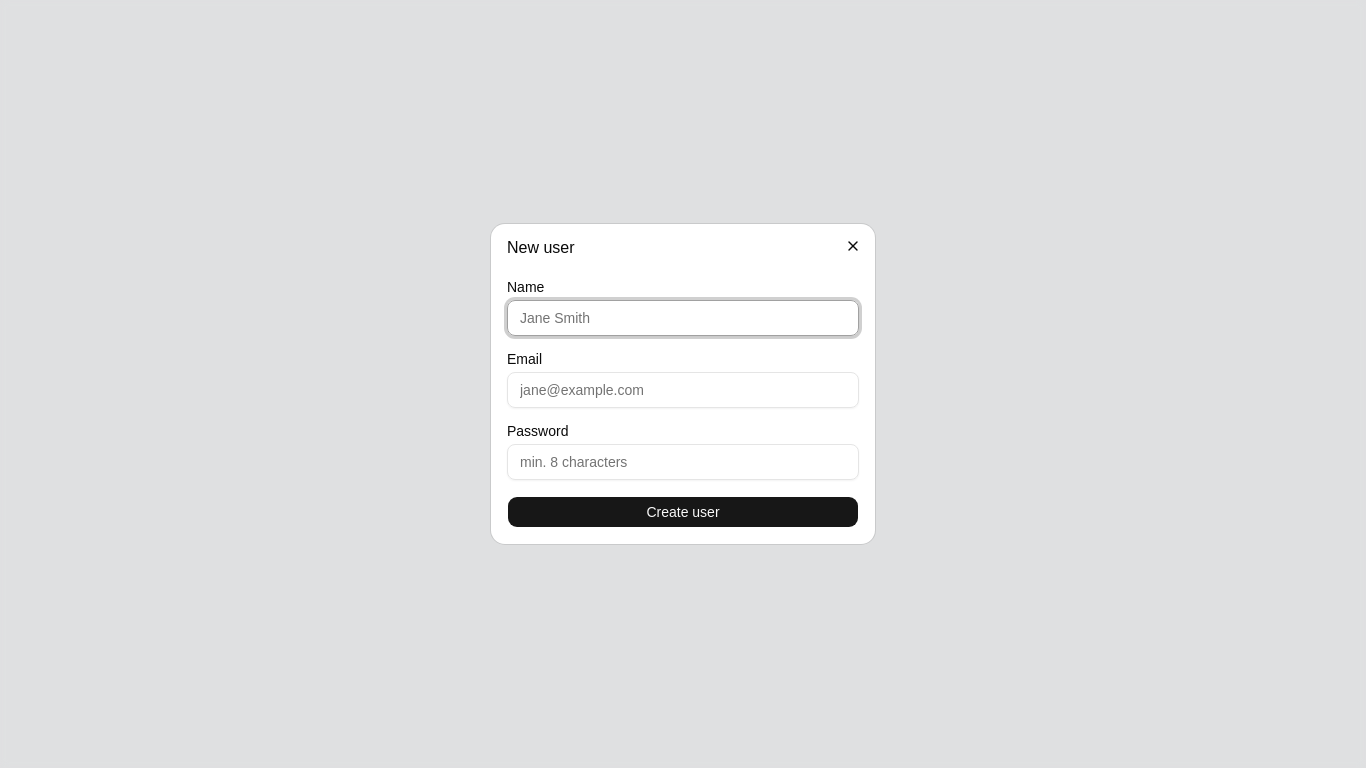
Test case: UserDialog — create mode › validation › shows an error when the email is invalid
Type "not-an-email" into the field labelled "Email" at (683, 390), box left=507, top=372, right=859, bottom=408
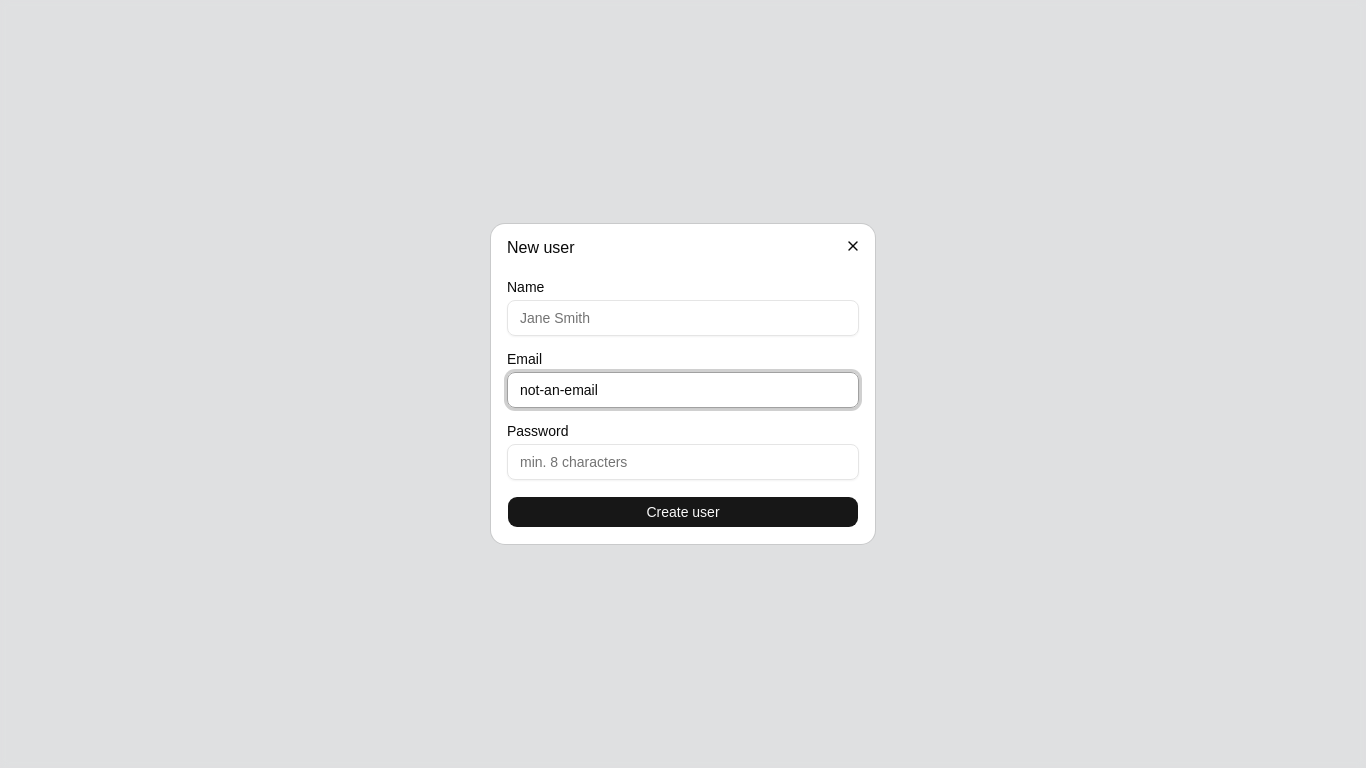
Click the button "Create user" at (683, 512), box left=507, top=496, right=859, bottom=528
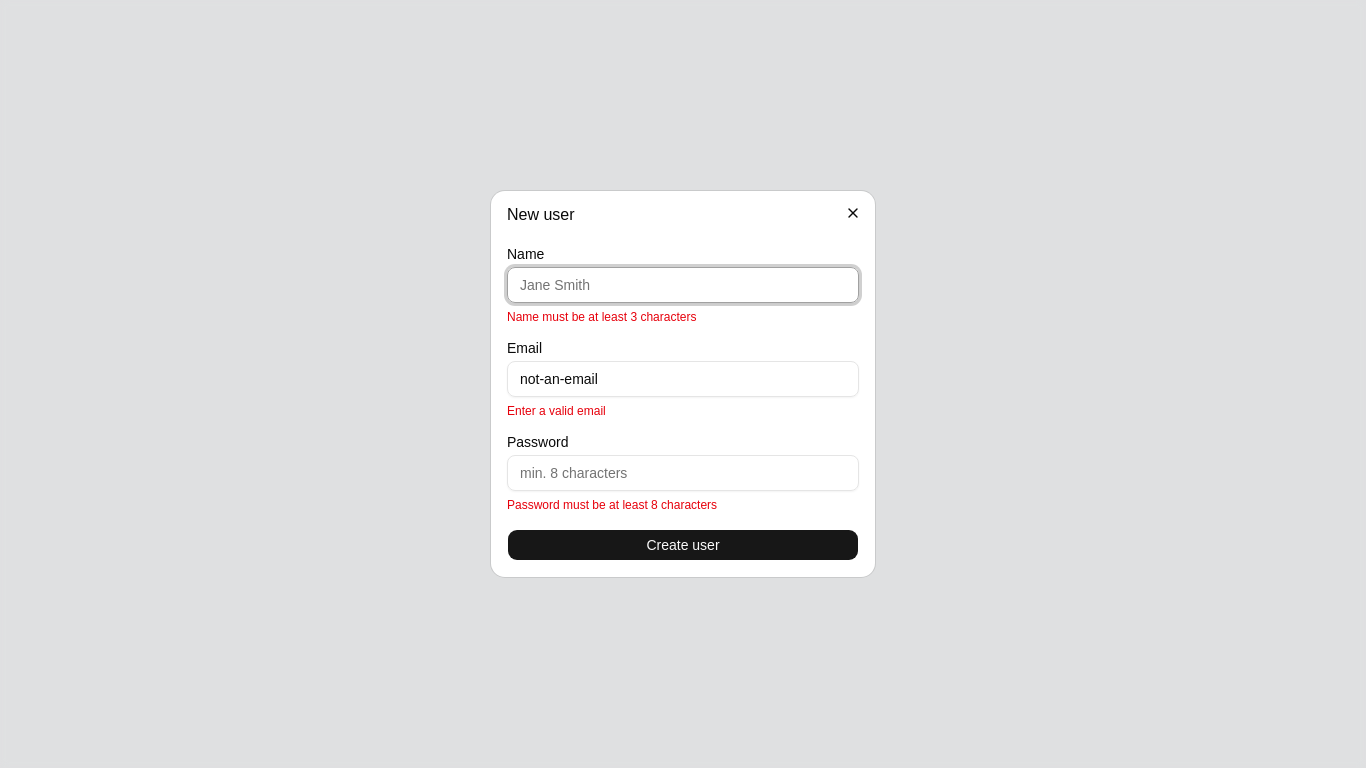
Check: the text "Enter a valid email" is shown, box left=507, top=404, right=606, bottom=418
